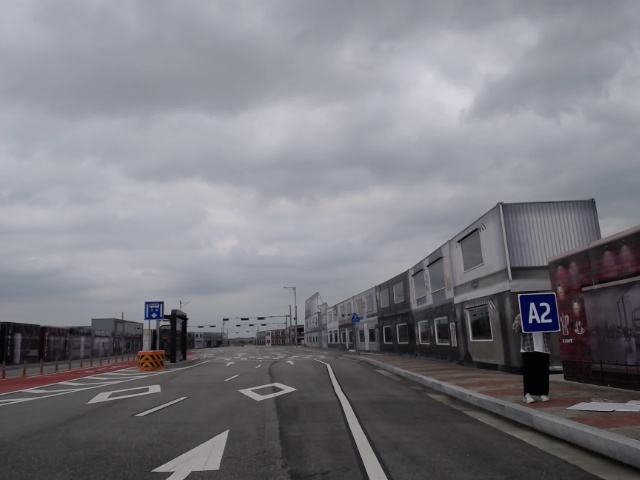delivery_a2: (518, 293, 560, 333)
